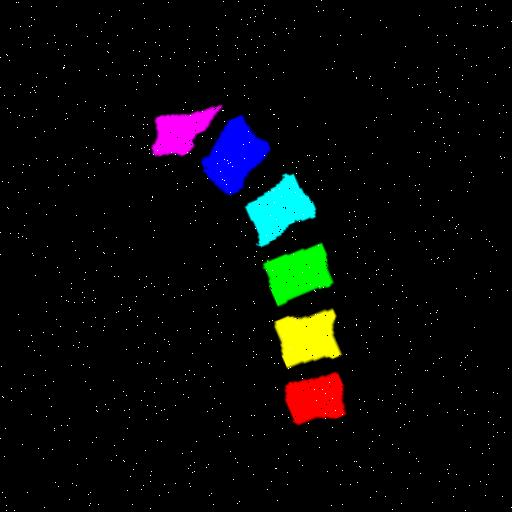L1: (274, 375, 335, 427)
L2: (266, 314, 331, 372)
L3: (256, 247, 325, 309)
L4: (237, 177, 307, 249)
L5: (196, 118, 265, 198)
S1: (147, 109, 216, 158)
